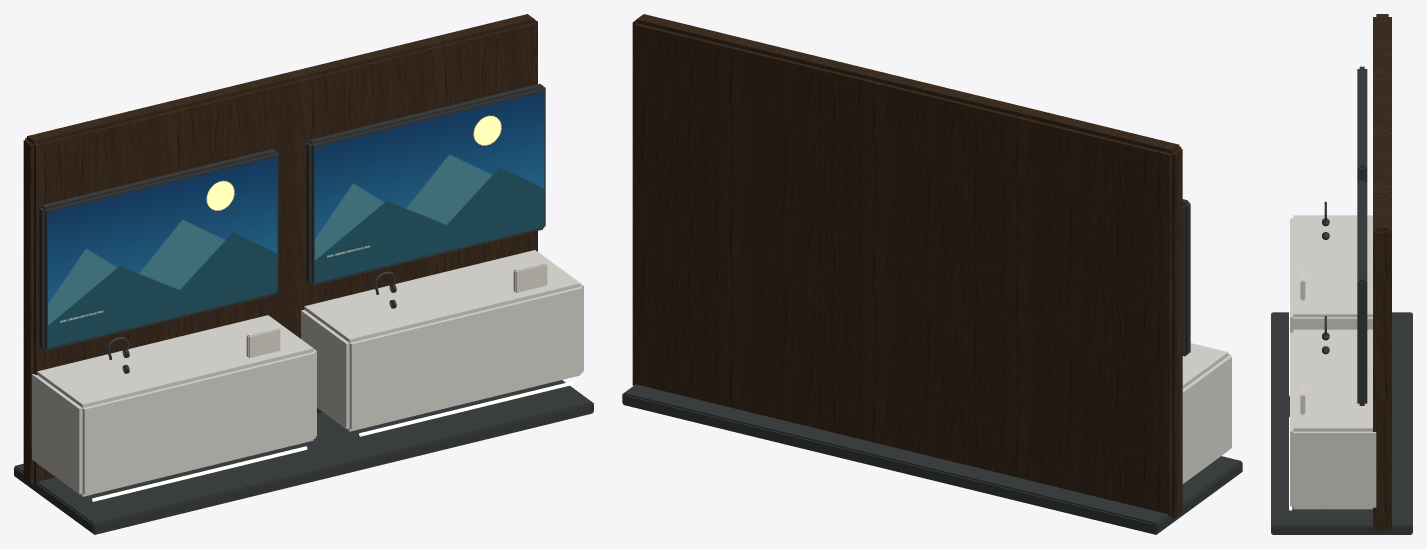
The model's file is television_demo.glb.
3 renders of one model, left to right at view 1: azimuth 30°, elevation 25°; view 2: azimuth 150°, elevation 25°; view 3: azimuth 270°, elevation 25°, orthographic. The views are drawn at different scales.
Visible parts, largest first — view 1: television_demo_Warm_white_coating, television_demo_SUVEL_original_display_graphic, television_demo_CC0_Smoked_walnut, television_demo_Anodised_graphite, television_demo_Warm_LED_diffuser, television_demo_Paper_page_edges; view 2: television_demo_CC0_Smoked_walnut, television_demo_Anodised_graphite, television_demo_Warm_white_coating; view 3: television_demo_Warm_white_coating, television_demo_Anodised_graphite, television_demo_CC0_Smoked_walnut, television_demo_Paper_page_edges, television_demo_Warm_LED_diffuser.
Boxes of the visible parts, x1,y1,x2,y2 form: television_demo_Warm_white_coating: (32, 250, 583, 496); television_demo_SUVEL_original_display_graphic: (48, 92, 544, 348); television_demo_CC0_Smoked_walnut: (23, 14, 537, 486); television_demo_Anodised_graphite: (14, 83, 593, 534); television_demo_Warm_LED_diffuser: (92, 381, 574, 501); television_demo_Paper_page_edges: (246, 262, 547, 357); television_demo_CC0_Smoked_walnut: (632, 14, 1182, 520); television_demo_Anodised_graphite: (622, 199, 1242, 534); television_demo_Warm_white_coating: (1182, 343, 1231, 483); television_demo_Warm_white_coating: (1290, 215, 1376, 509); television_demo_Anodised_graphite: (1271, 66, 1412, 534); television_demo_CC0_Smoked_walnut: (1373, 14, 1391, 531); television_demo_Paper_page_edges: (1300, 267, 1305, 414); television_demo_Warm_LED_diffuser: (1289, 302, 1292, 510).
Size of the model in its own units: 3.8 by 2.51 by 1.05.
10 materials, 2 textured.
